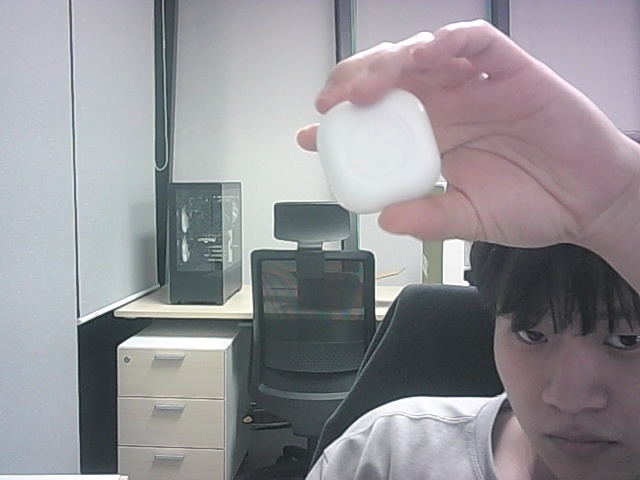case: (317, 90, 439, 213)
